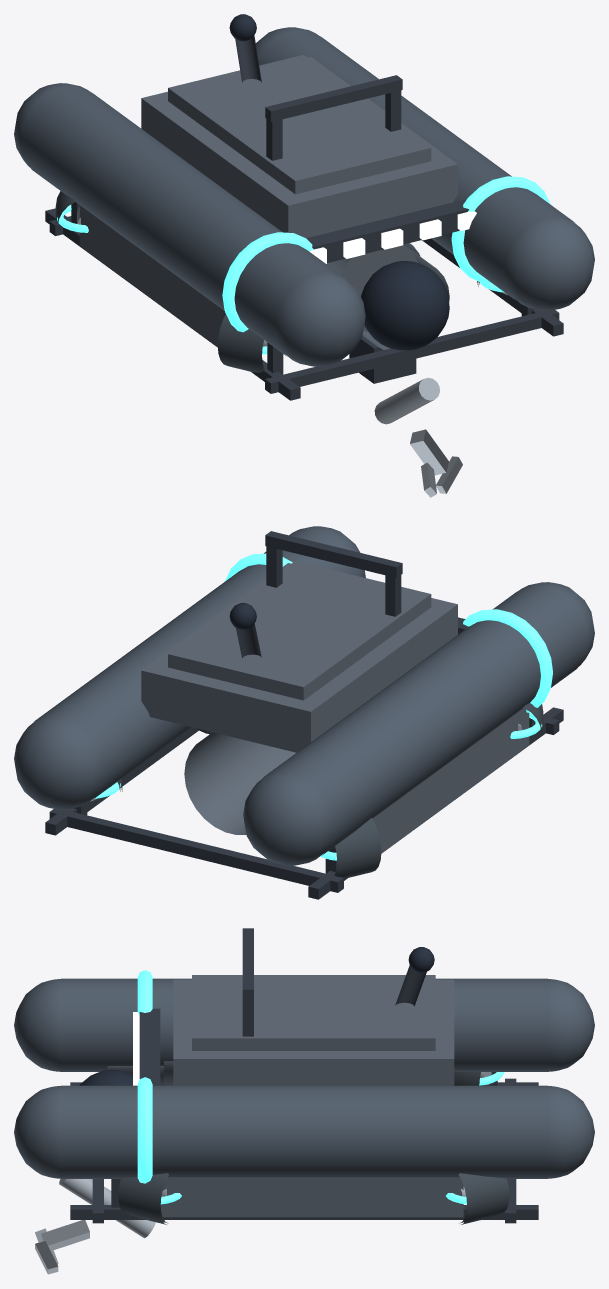
Rendered from rov.glb.
3 renders of one model, top to bottom at view 1: azimuth 30°, elevation 25°; view 2: azimuth 150°, elevation 25°; view 3: azimuth 270°, elevation 25°, orthographic. The views are drawn at different scales.
Parts seen in each view (by area): view 1: model; view 2: model; view 3: model.
Boxes of the visible parts, <box> form: model: <box>14,14,594,497</box>; model: <box>14,526,594,899</box>; model: <box>14,928,594,1274</box>.
Bounding box in the file's own units: 0.388 × 0.3801 × 0.62.
